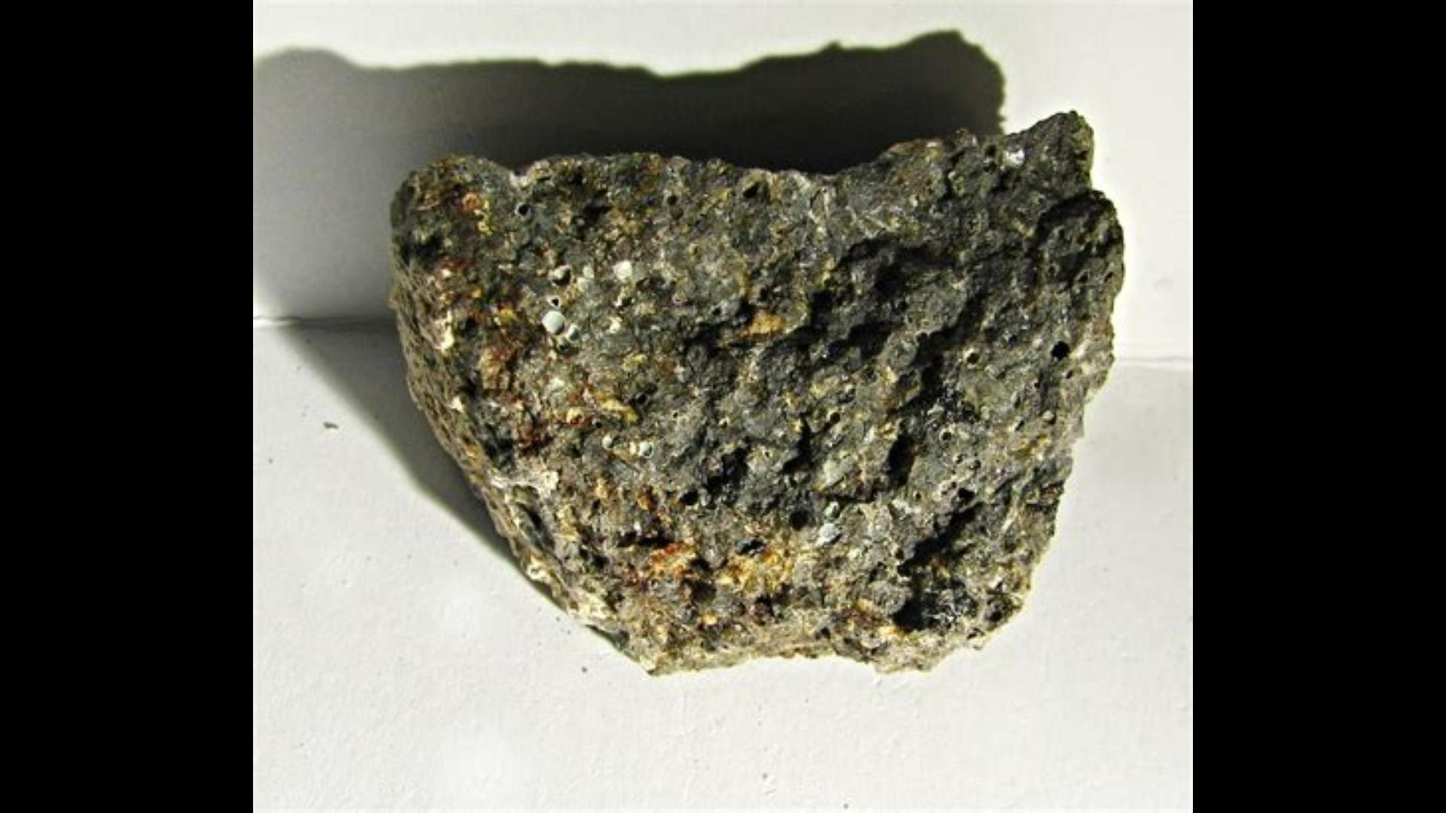rock: (394, 113, 1122, 668)
